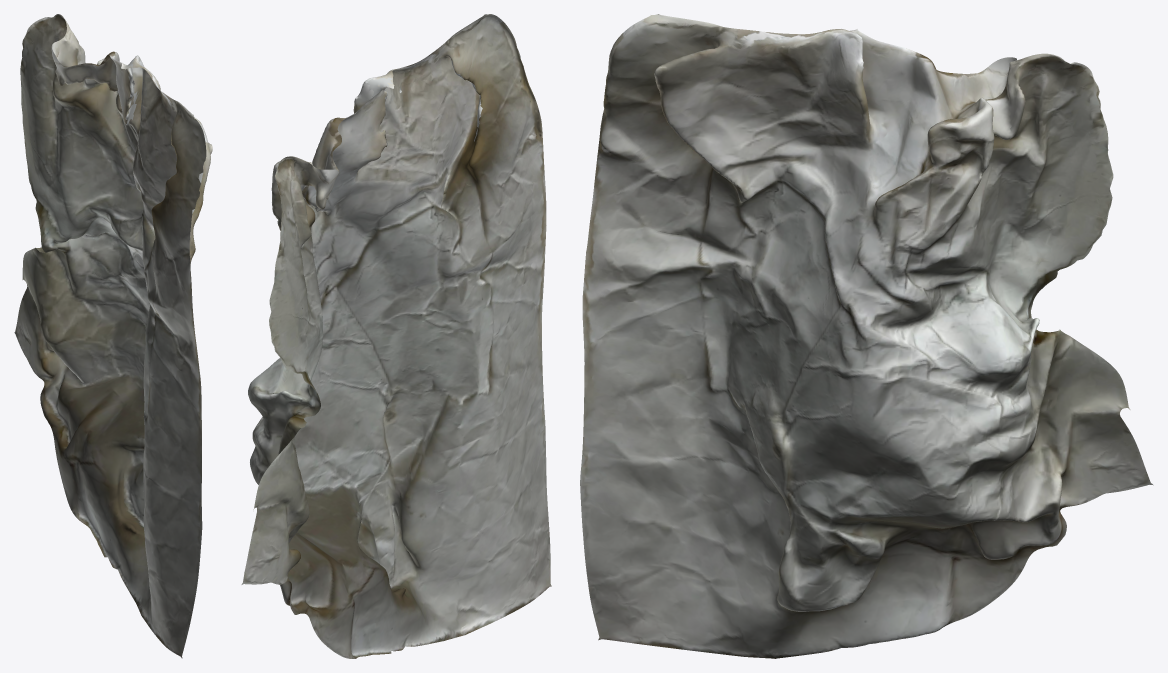
The model's file is asset.glb.
The picture shows the model from 3 angles, left to right: view 1: azimuth 30°, elevation 25°; view 2: azimuth 150°, elevation 25°; view 3: azimuth 270°, elevation 25°; orthographic projection. The views are drawn at different scales.
Parts seen in each view (by area): view 1: model.011; view 2: model.011; view 3: model.011.
Boxes of the visible parts, x1,y1,x2,y2 form: model.011: (14, 14, 212, 658); model.011: (241, 14, 551, 658); model.011: (580, 14, 1153, 658).
Size of the model in its own units: 0.9286 by 4.03 by 3.21.
Materials: 3 (3 with a texture image).
